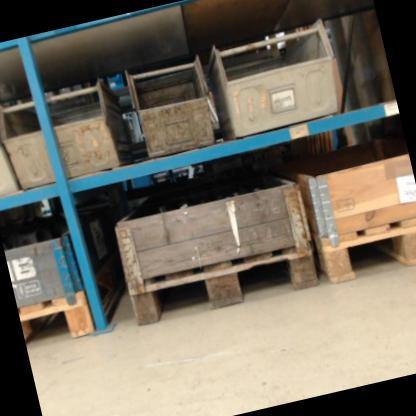pallet: (124, 235, 324, 329), (311, 207, 416, 286), (17, 288, 97, 353)
